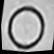no answer: (2, 0, 50, 52)
